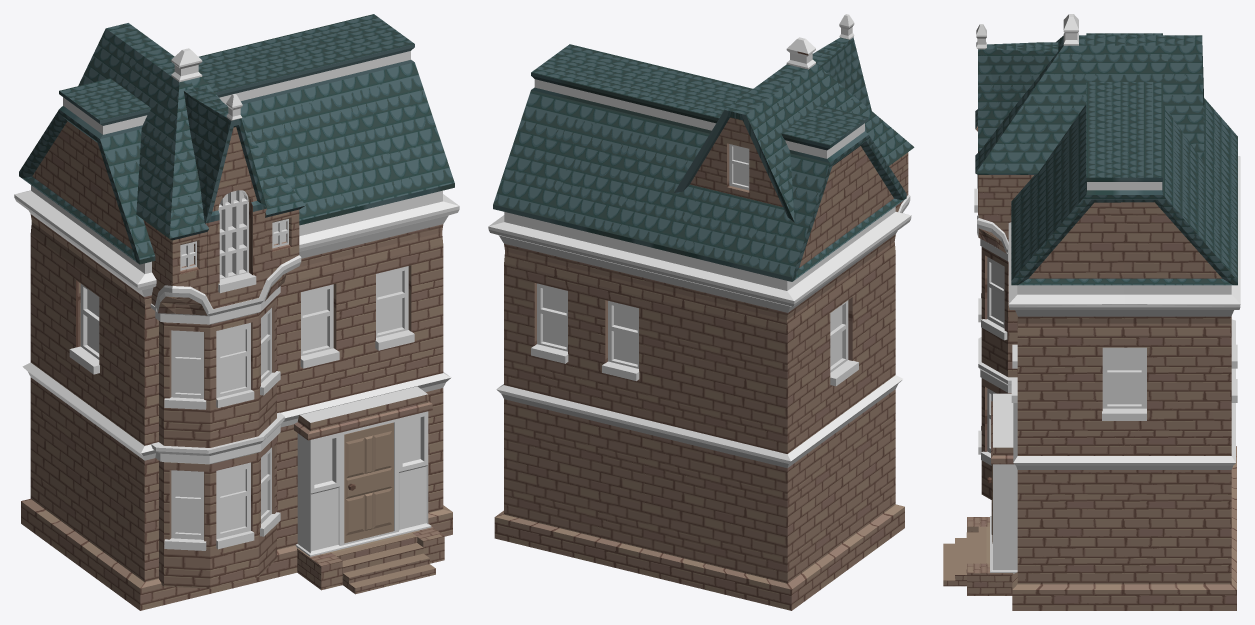
Rendered from 单体建筑1x1_2三角.fbx.
3 views of the same model, side by side, from view 1: azimuth 30°, elevation 25°; view 2: azimuth 150°, elevation 25°; view 3: azimuth 270°, elevation 25° (orthographic). The views are drawn at different scales.
Parts seen in each view (by area): view 1: 1x1_2, 门1; view 2: 1x1_2; view 3: 1x1_2.
Boxes of the visible parts, x1,y1,x2,y2 form: 1x1_2: [14, 14, 459, 610]; 门1: [344, 422, 393, 543]; 1x1_2: [488, 14, 914, 610]; 1x1_2: [943, 14, 1240, 610].
Bounding box in the file's own units: 1495 × 2300 × 1270.
6 materials, 3 textured.
